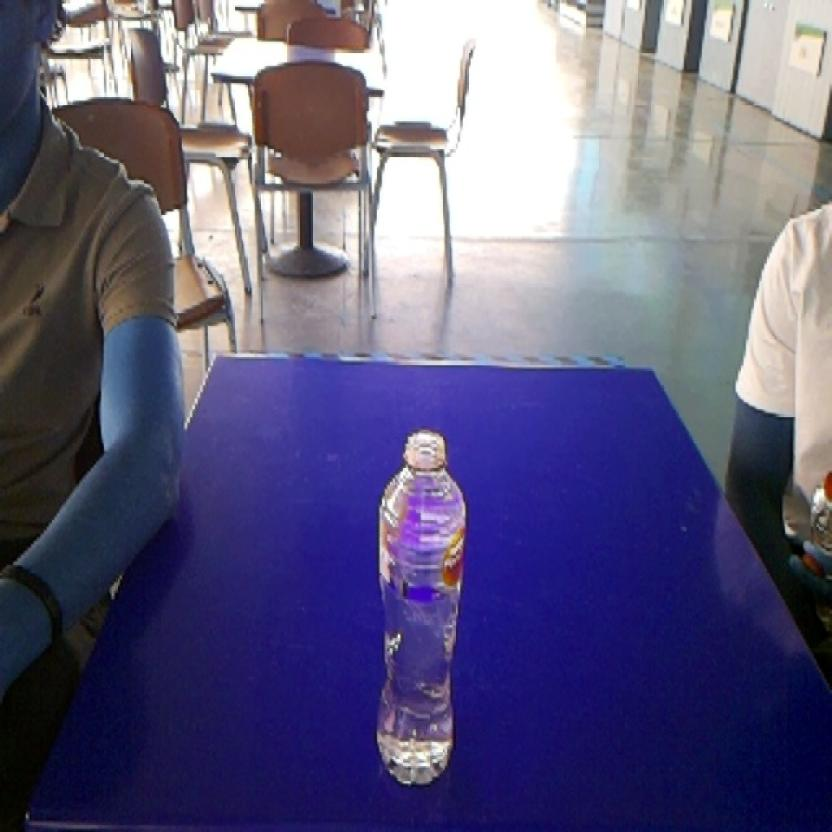no_cap: (367, 412, 472, 793)
